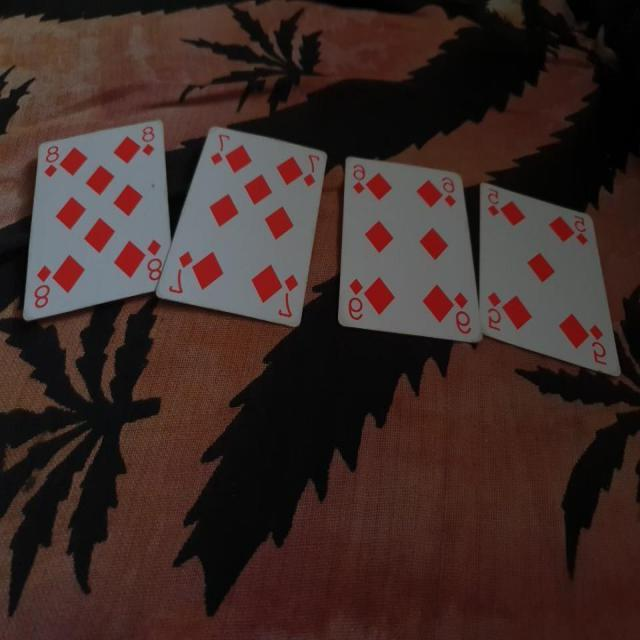5 of diamonds: (476, 177, 626, 383)
6 of diamonds: (334, 152, 483, 343)
7 of diamonds: (156, 124, 331, 328)
8 of diamonds: (21, 117, 172, 323)
